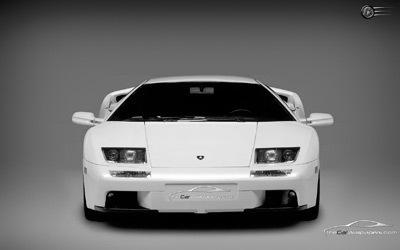car: (68, 72, 336, 232)
